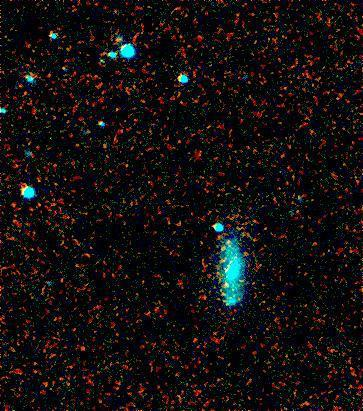star: (213, 268, 243, 298)
